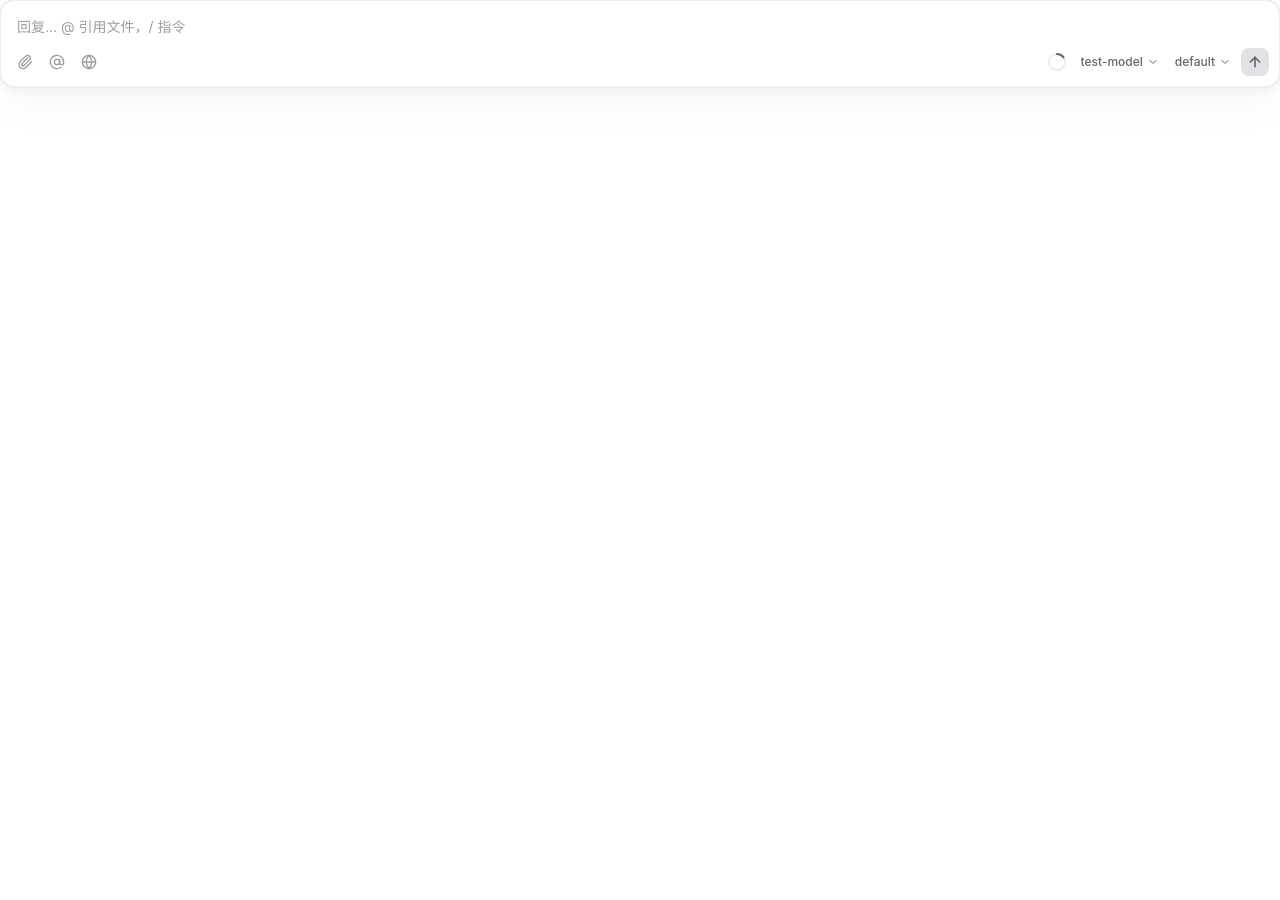
Scenario: 压缩后的估计用量标「约」
Click the button named "上下文占用" at (1057, 62), box [1043,48,1071,76]
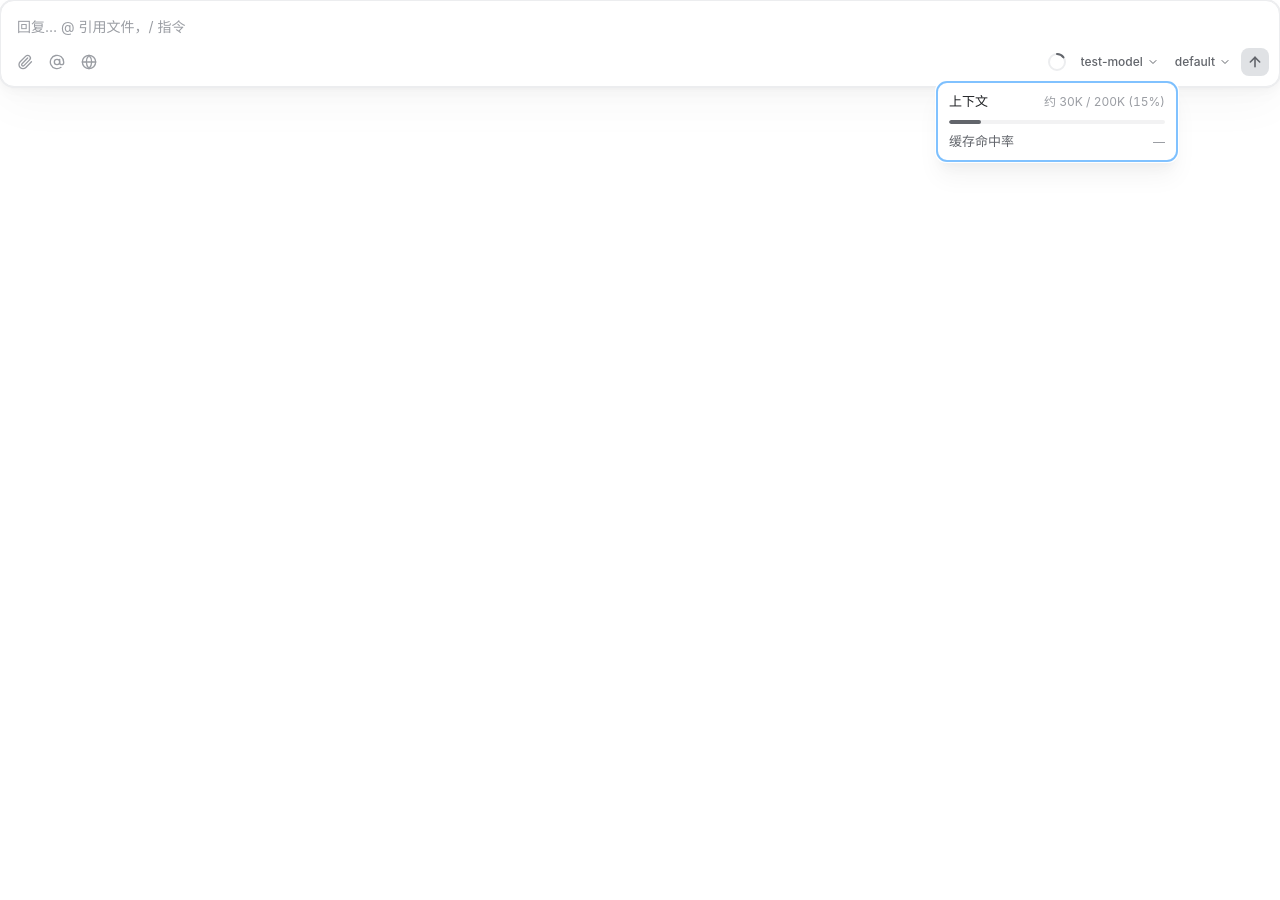
Now the text "约 30K / 200K" is shown, box [1044,93,1165,111]
